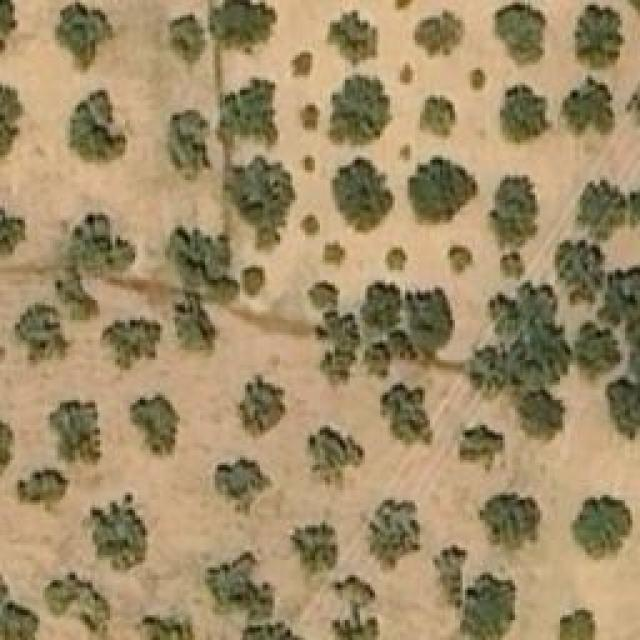Tree: (228, 155, 298, 253), (165, 225, 240, 303), (80, 493, 148, 573), (408, 158, 481, 231), (330, 157, 393, 235), (208, 550, 283, 615), (67, 90, 125, 163), (45, 398, 103, 471), (493, 0, 548, 75), (73, 210, 133, 278), (570, 495, 633, 558), (48, 570, 111, 633), (330, 77, 388, 145), (305, 425, 365, 490), (218, 78, 278, 143), (368, 500, 423, 570), (15, 303, 75, 366), (497, 83, 555, 148), (58, 0, 113, 68), (478, 492, 541, 550), (507, 320, 565, 383), (380, 383, 433, 448), (407, 285, 455, 355), (235, 383, 288, 446), (215, 458, 270, 518), (209, 0, 272, 52), (575, 5, 625, 70), (460, 575, 510, 640), (130, 395, 180, 458), (555, 240, 605, 303), (578, 175, 623, 240), (563, 77, 613, 135), (413, 8, 466, 61), (290, 520, 338, 578), (168, 110, 208, 178), (490, 180, 533, 240), (575, 323, 620, 378), (105, 323, 158, 368), (607, 380, 640, 445), (363, 280, 403, 333), (318, 312, 361, 360), (330, 18, 375, 63), (458, 425, 502, 468), (170, 13, 205, 66), (468, 348, 507, 395), (178, 295, 211, 350), (523, 392, 558, 440), (0, 82, 22, 157), (18, 470, 68, 503), (53, 278, 93, 318), (420, 95, 455, 140), (0, 602, 40, 640), (0, 205, 25, 260), (143, 615, 196, 640), (320, 350, 353, 390), (0, 0, 18, 60), (560, 610, 595, 640), (0, 415, 15, 475), (448, 240, 473, 275), (307, 280, 335, 310), (378, 248, 408, 273), (290, 50, 313, 80), (468, 65, 488, 93), (243, 267, 263, 295), (300, 105, 323, 125), (320, 243, 343, 263), (502, 255, 520, 275)
